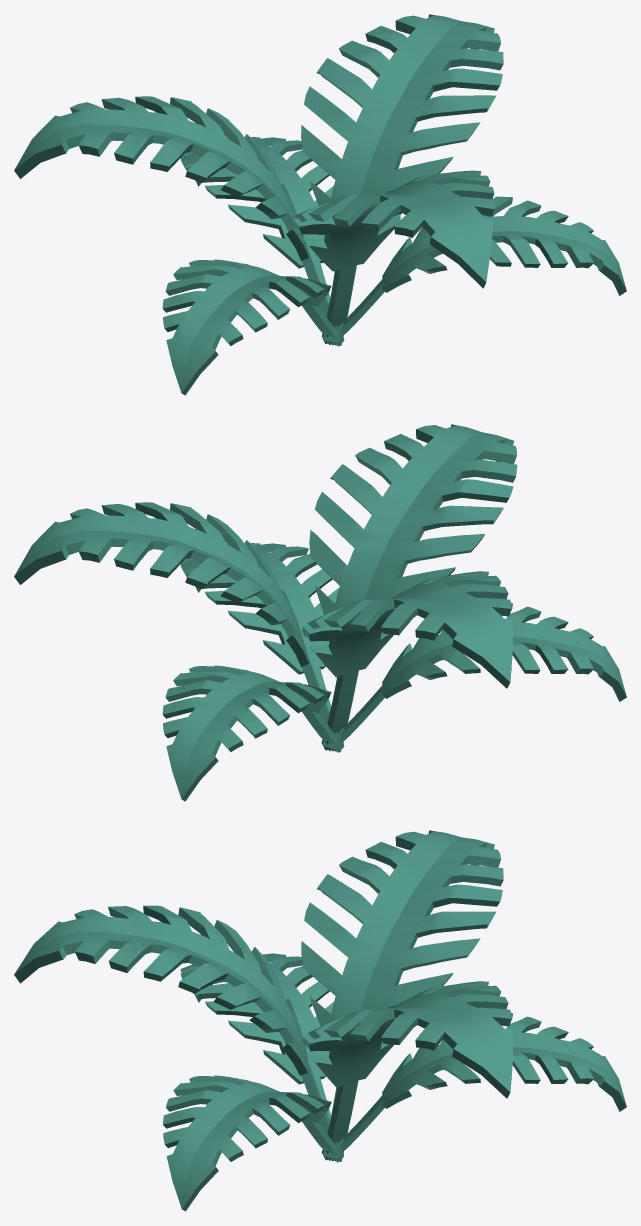
The model's file is bush1.fbx.
3 views of the same model, one above another, from view 1: azimuth 30°, elevation 25°; view 2: azimuth 150°, elevation 25°; view 3: azimuth 270°, elevation 25° (orthographic).
Parts seen in each view (by area): view 1: bush1; view 2: bush1; view 3: bush1.
Part boxes in pixels (<box>): bush1: <box>14,14,626,395</box>; bush1: <box>14,424,626,801</box>; bush1: <box>14,830,626,1211</box>.
Size of the model in its own units: 1.8 by 0.8116 by 1.99.
